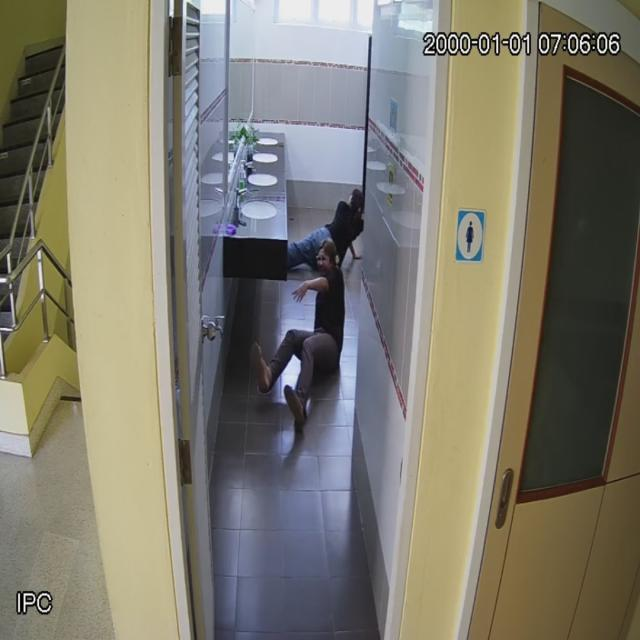fall: (258, 240, 344, 426), (290, 187, 362, 269)
